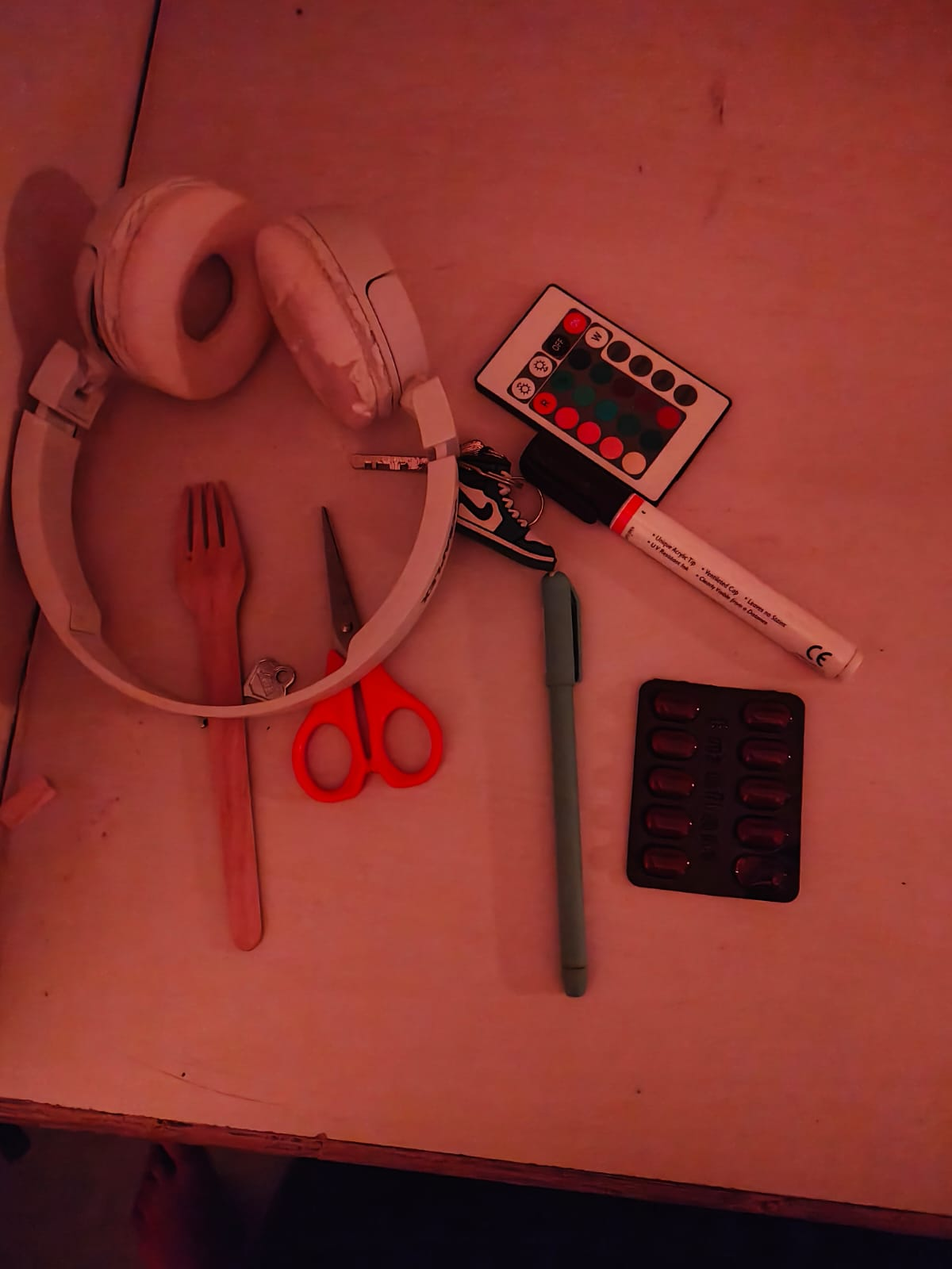case: (529, 425, 887, 687)
pen: (524, 563, 615, 1016)
